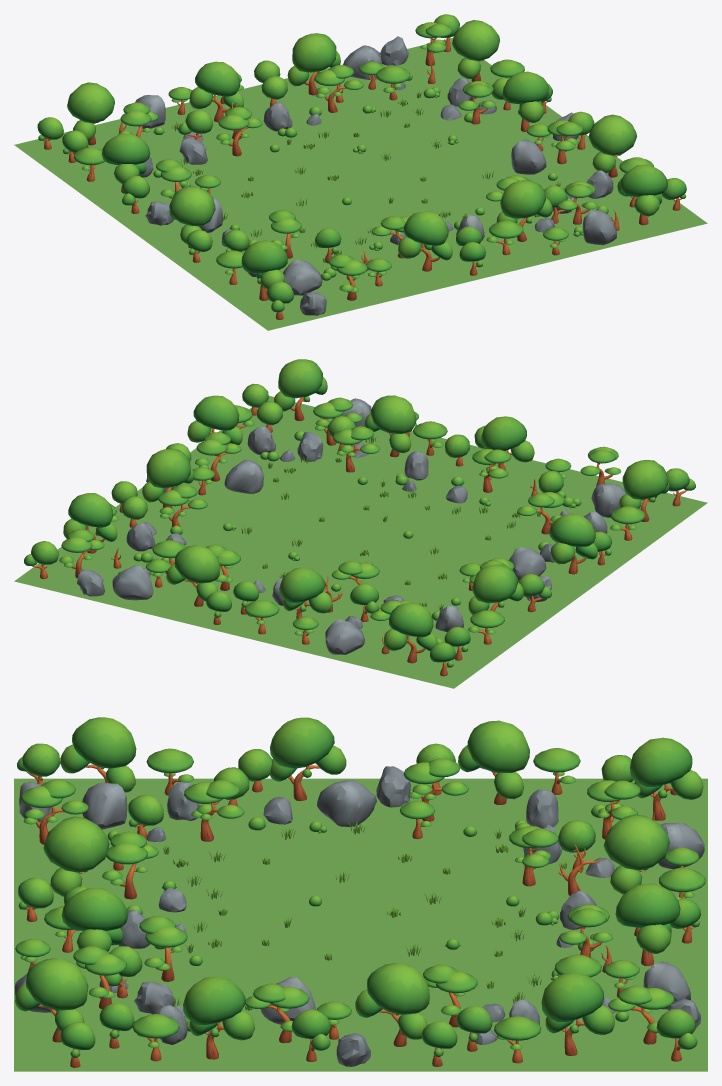
The model's file is world.glb.
3 renders of one model, top to bottom at view 1: azimuth 30°, elevation 25°; view 2: azimuth 150°, elevation 25°; view 3: azimuth 270°, elevation 25°, orthographic. The views are drawn at different scales.
Parts seen in each view (by area): view 1: Plane, Tree_1_C_Color1.010, Tree_1_C_Color1.009, Tree_1_C_Color1.008, Tree_1_C_Color1.001, Tree_1_C_Color1.005, Tree_1_C_Color1.011, Tree_1_C_Color1.002, Tree_1_C_Color1, Tree_1_C_Color1.004, Tree_1_C_Color1.003, Tree_1_C_Color1.007 (+37 smaller); view 2: Plane, Tree_1_C_Color1.002, Tree_1_C_Color1.006, Tree_1_C_Color1.008, Tree_1_C_Color1, Tree_1_C_Color1.011, Tree_1_C_Color1.009, Tree_1_C_Color1.003, Tree_1_C_Color1.001, Tree_1_C_Color1.007, Tree_1_C_Color1.004, Tree_1_C_Color1.005 (+37 smaller); view 3: Plane, Tree_1_C_Color1.004, Tree_1_C_Color1.006, Tree_1_C_Color1.003, Tree_1_C_Color1.007, Tree_1_C_Color1.005, Tree_1_C_Color1.001, Tree_1_C_Color1.002, Tree_1_C_Color1, Tree_1_C_Color1.009, Tree_1_C_Color1.010, Tree_1_C_Color1.008 (+55 smaller).
Boxes of the visible parts, <box> form: Plane: <box>14,38,707,330</box>; Tree_1_C_Color1.010: <box>398,211,452,271</box>; Tree_1_C_Color1.009: <box>189,61,243,122</box>; Tree_1_C_Color1.008: <box>287,33,340,95</box>; Tree_1_C_Color1.001: <box>588,114,636,177</box>; Tree_1_C_Color1.005: <box>452,20,499,81</box>; Tree_1_C_Color1.011: <box>496,180,552,241</box>; Tree_1_C_Color1.002: <box>67,82,114,145</box>; Tree_1_C_Color1: <box>620,164,667,225</box>; Tree_1_C_Color1.004: <box>502,71,549,131</box>; Tree_1_C_Color1.003: <box>101,133,150,193</box>; Tree_1_C_Color1.007: <box>241,240,287,300</box>; Plane: <box>14,396,707,688</box>; Tree_1_C_Color1.002: <box>384,602,437,663</box>; Tree_1_C_Color1.006: <box>549,513,597,574</box>; Tree_1_C_Color1.008: <box>166,545,220,606</box>; Tree_1_C_Color1: <box>274,359,327,420</box>; Tree_1_C_Color1.011: <box>364,395,416,457</box>; Tree_1_C_Color1.009: <box>279,567,332,618</box>; Tree_1_C_Color1.003: <box>468,564,523,614</box>; Tree_1_C_Color1.001: <box>187,395,242,456</box>; Tree_1_C_Color1.007: <box>619,460,669,521</box>; Tree_1_C_Color1.004: <box>142,448,194,508</box>; Tree_1_C_Color1.005: <box>63,493,117,553</box>; Plane: <box>14,778,707,1071</box>; Tree_1_C_Color1.004: <box>355,963,429,1046</box>; Tree_1_C_Color1.006: <box>270,717,346,801</box>; Tree_1_C_Color1.003: <box>458,720,529,804</box>; Tree_1_C_Color1.007: <box>60,717,136,792</box>; Tree_1_C_Color1.005: <box>541,973,614,1055</box>; Tree_1_C_Color1.001: <box>183,976,254,1059</box>; Tree_1_C_Color1.002: <box>630,737,703,820</box>; Tree_1_C_Color1: <box>15,958,88,1042</box>; Tree_1_C_Color1.009: <box>603,814,669,894</box>; Tree_1_C_Color1.010: <box>43,816,109,896</box>; Tree_1_C_Color1.008: <box>615,883,680,965</box>.
Size of the model in its own units: 60 by 8.43 by 60.
Materials: 23 (23 with a texture image).
